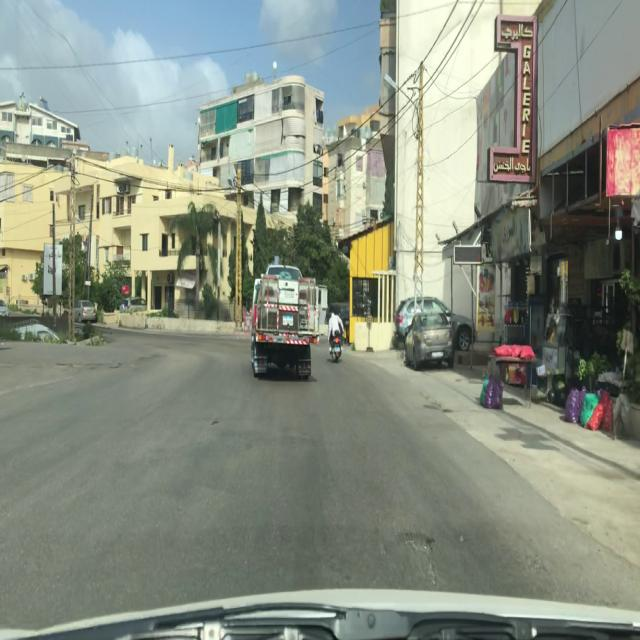Pothole: (399, 527, 440, 555)
